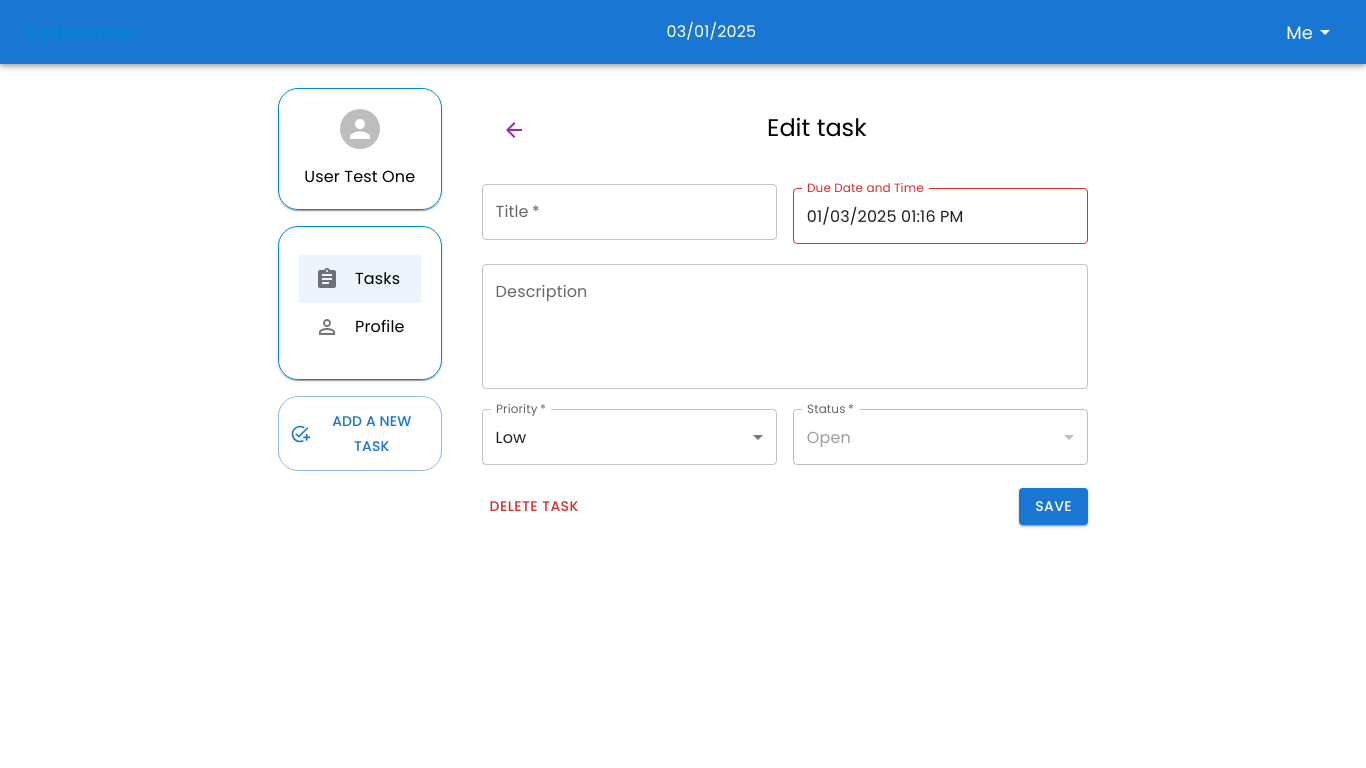
Test: Delete task modal component testing › Should open and display text on english language
Click the button with aria-label "DeleteTaskBtn" at (534, 506), box [482,488,587,524]
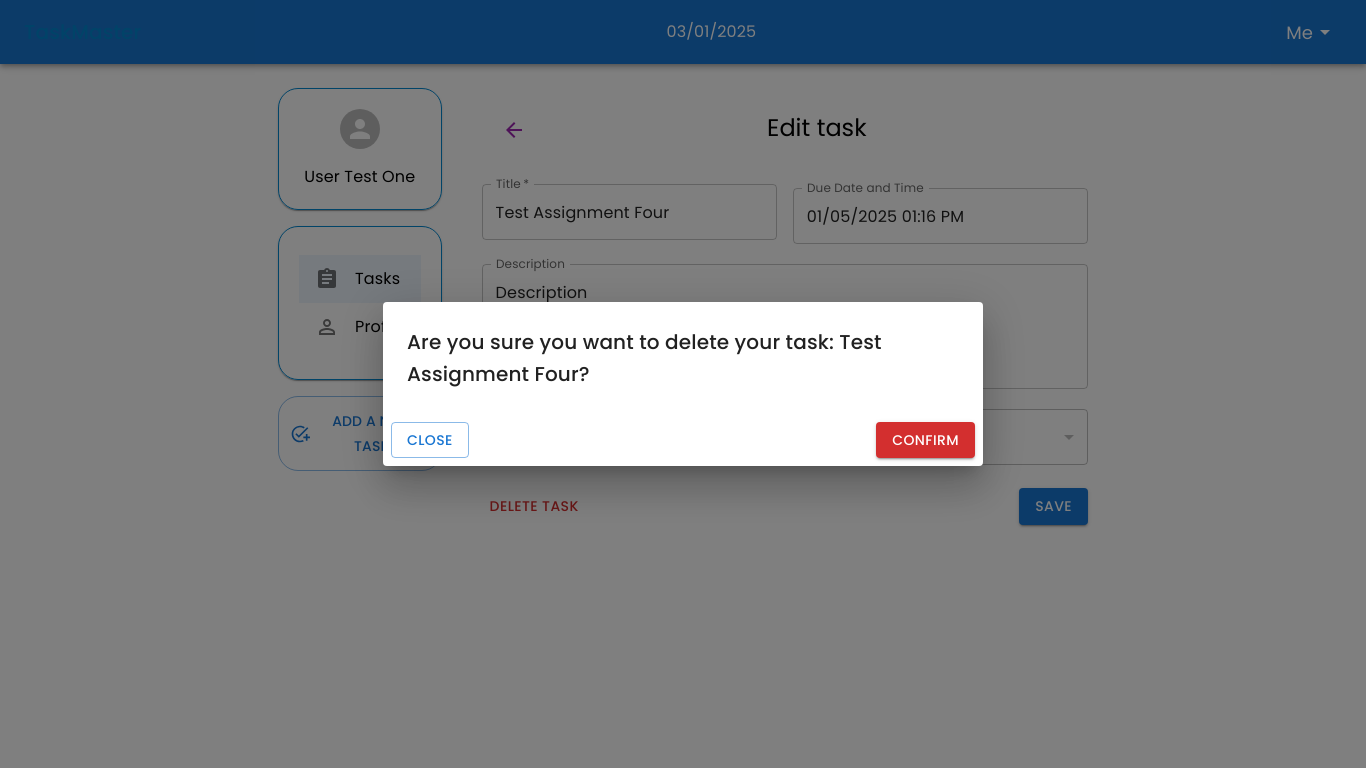
Expected: the heading "Are you sure you want to delete your task: Test Assignment Four?" is shown, [407,328,882,388]
Expected: the button with aria-label "CloseDeleteTaskModalBtn" reads "Close", [391,422,469,458]
Expected: the button with aria-label "ConfirmDeleteTaskModalBtn" reads "Confirm", [876,422,975,458]
